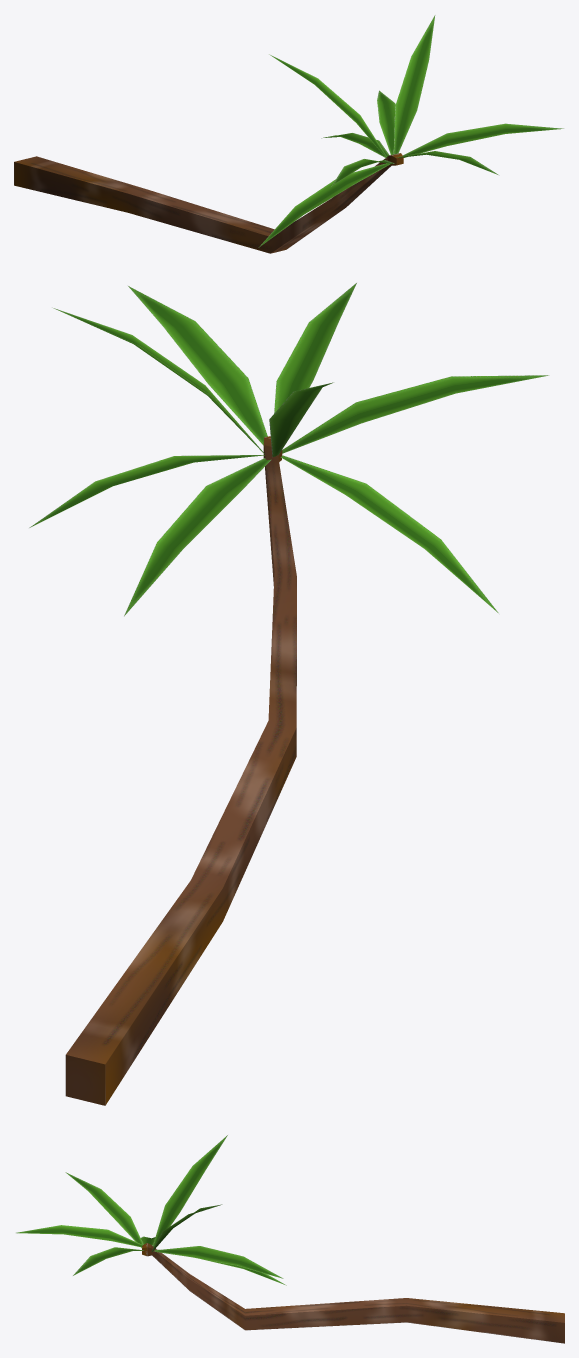
Rendered from GrotBoom_02.obj.
3 renders of one model, top to bottom at view 1: azimuth 30°, elevation 25°; view 2: azimuth 150°, elevation 25°; view 3: azimuth 270°, elevation 25°, orthographic. The views are drawn at different scales.
Visible parts, largest first — view 1: Tak_BoomGrot_2; view 2: Tak_BoomGrot_2; view 3: Tak_BoomGrot_2.
Boxes of the visible parts, bbox=[...] form: Tak_BoomGrot_2: bbox=[14, 15, 564, 253]; Tak_BoomGrot_2: bbox=[29, 283, 549, 1105]; Tak_BoomGrot_2: bbox=[16, 1135, 564, 1343].
Size of the model in its own units: 2.48 by 2.28 by 5.02.
